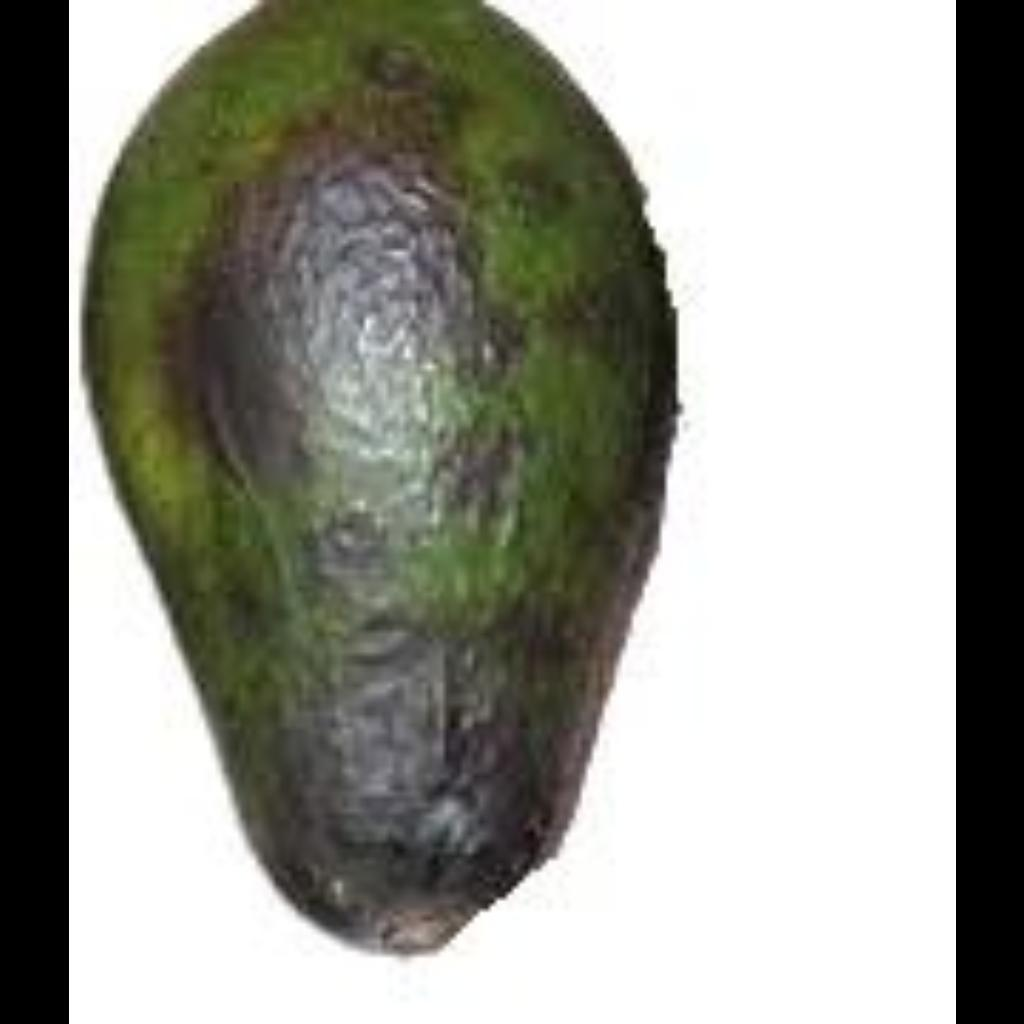antracnosis_fruto: (93, 23, 736, 922)
